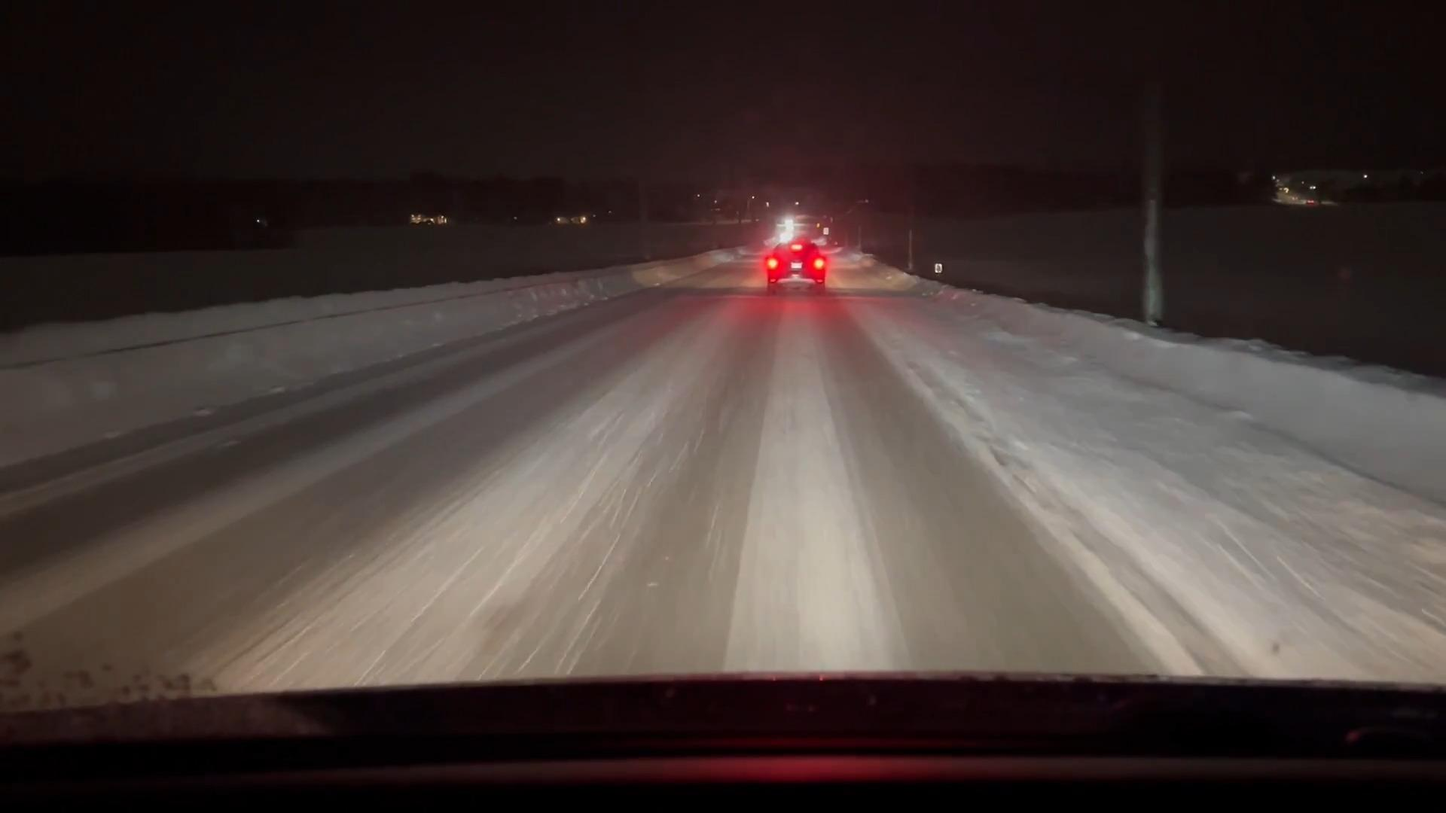Snow: (0, 247, 1446, 699)
